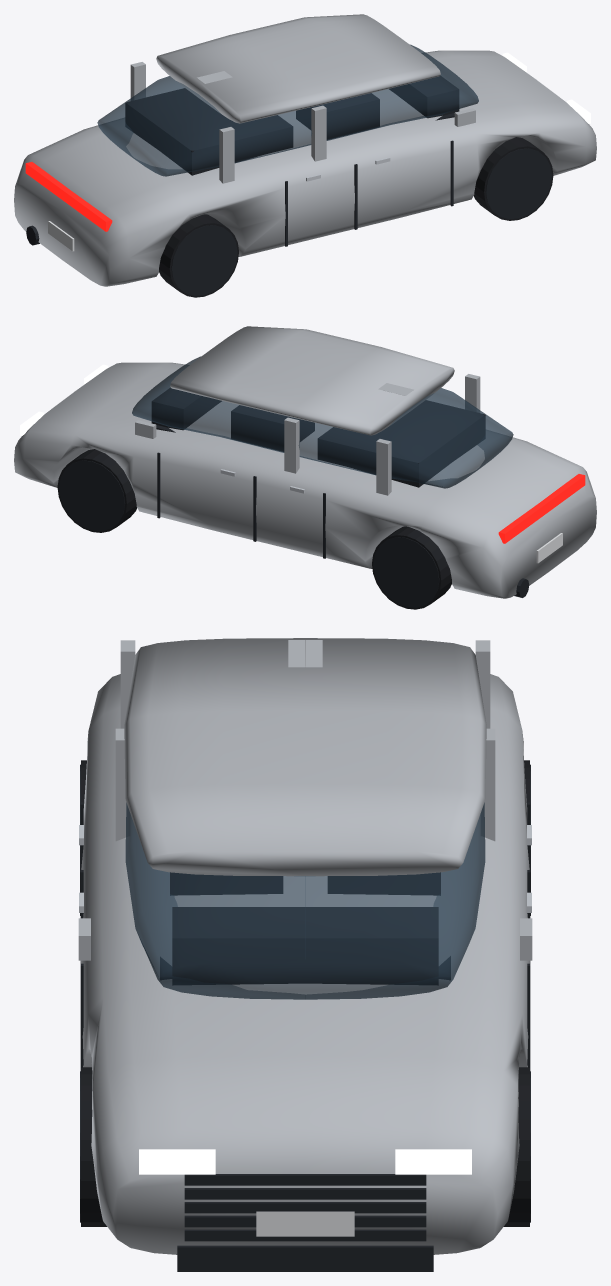
File: sedan_silver.glb
The picture shows the model from 3 angles, top to bottom: view 1: azimuth 30°, elevation 25°; view 2: azimuth 150°, elevation 25°; view 3: azimuth 270°, elevation 25°; orthographic projection. The views are drawn at different scales.
Visible parts, largest first — view 1: VehicleSedan; view 2: VehicleSedan; view 3: VehicleSedan.
Part boxes in pixels (x1,y1,x2,y2): VehicleSedan: [14, 14, 596, 297]; VehicleSedan: [14, 326, 596, 609]; VehicleSedan: [78, 638, 532, 1271].
Size of the model in its own units: 0.461 by 0.145 by 0.184.
